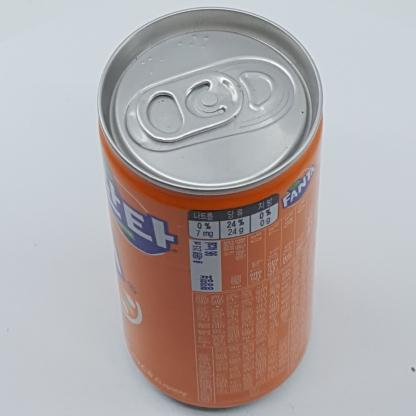-------215ML: (97, 7, 324, 408)
